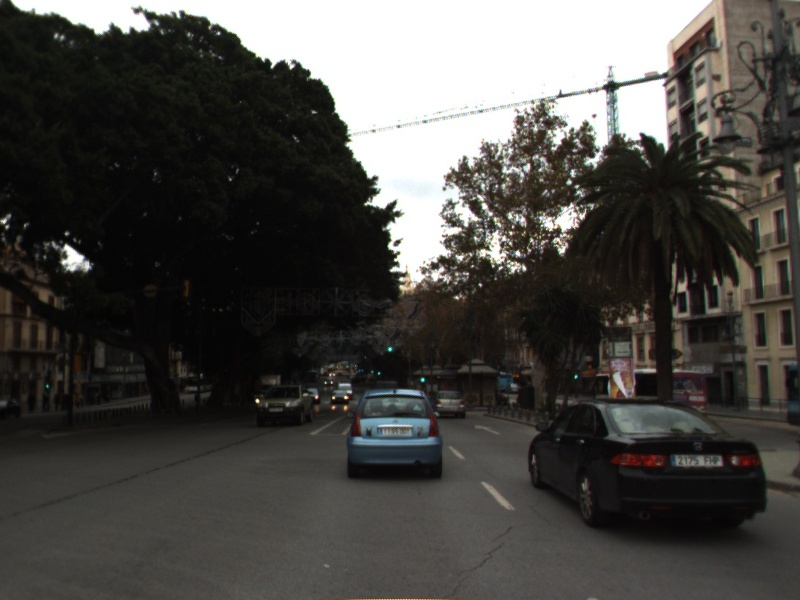STRAIGHT: (472, 422, 504, 437)
